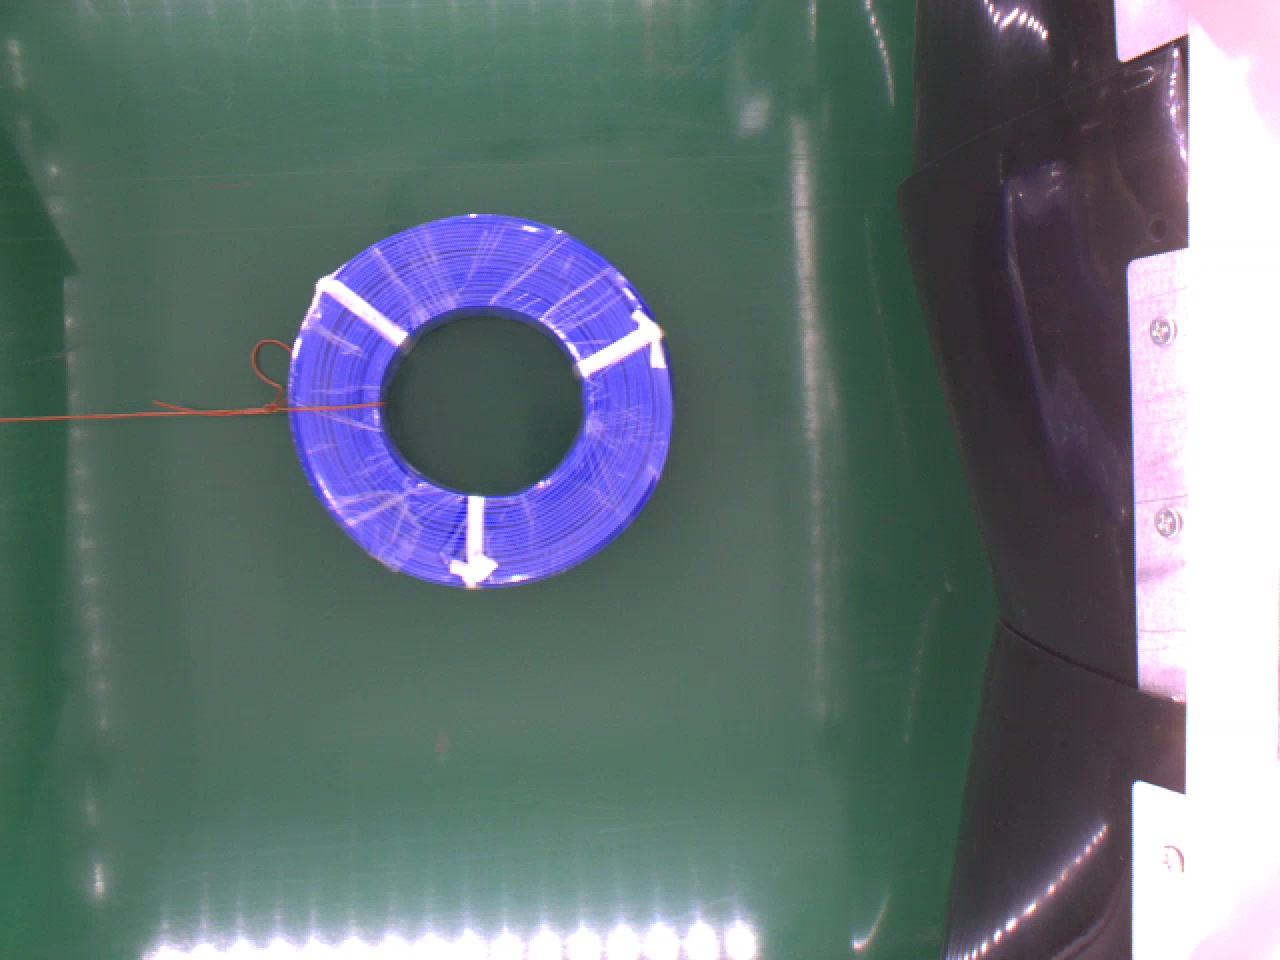blue: (291, 207, 681, 586)
